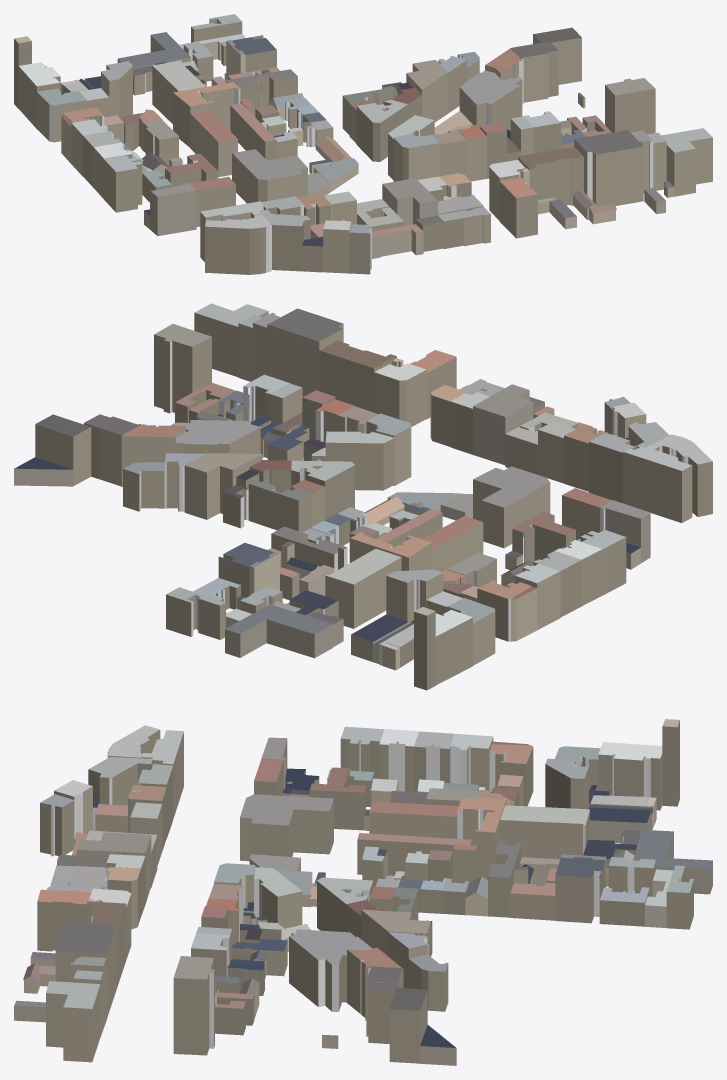
3 views of the same model, one above another, from view 1: azimuth 30°, elevation 25°; view 2: azimuth 150°, elevation 25°; view 3: azimuth 270°, elevation 25° (orthographic). The views are drawn at different scales.
Parts seen in each view (by area): view 1: tuile; view 2: tuile; view 3: tuile.
Part boxes in pixels (left/top/right/bottom): tuile: left=14, top=14, right=712, bottom=274; tuile: left=14, top=303, right=712, bottom=690; tuile: left=14, top=719, right=712, bottom=1065.
Bounding box in the file's own units: 262 × 34.13 × 267.
